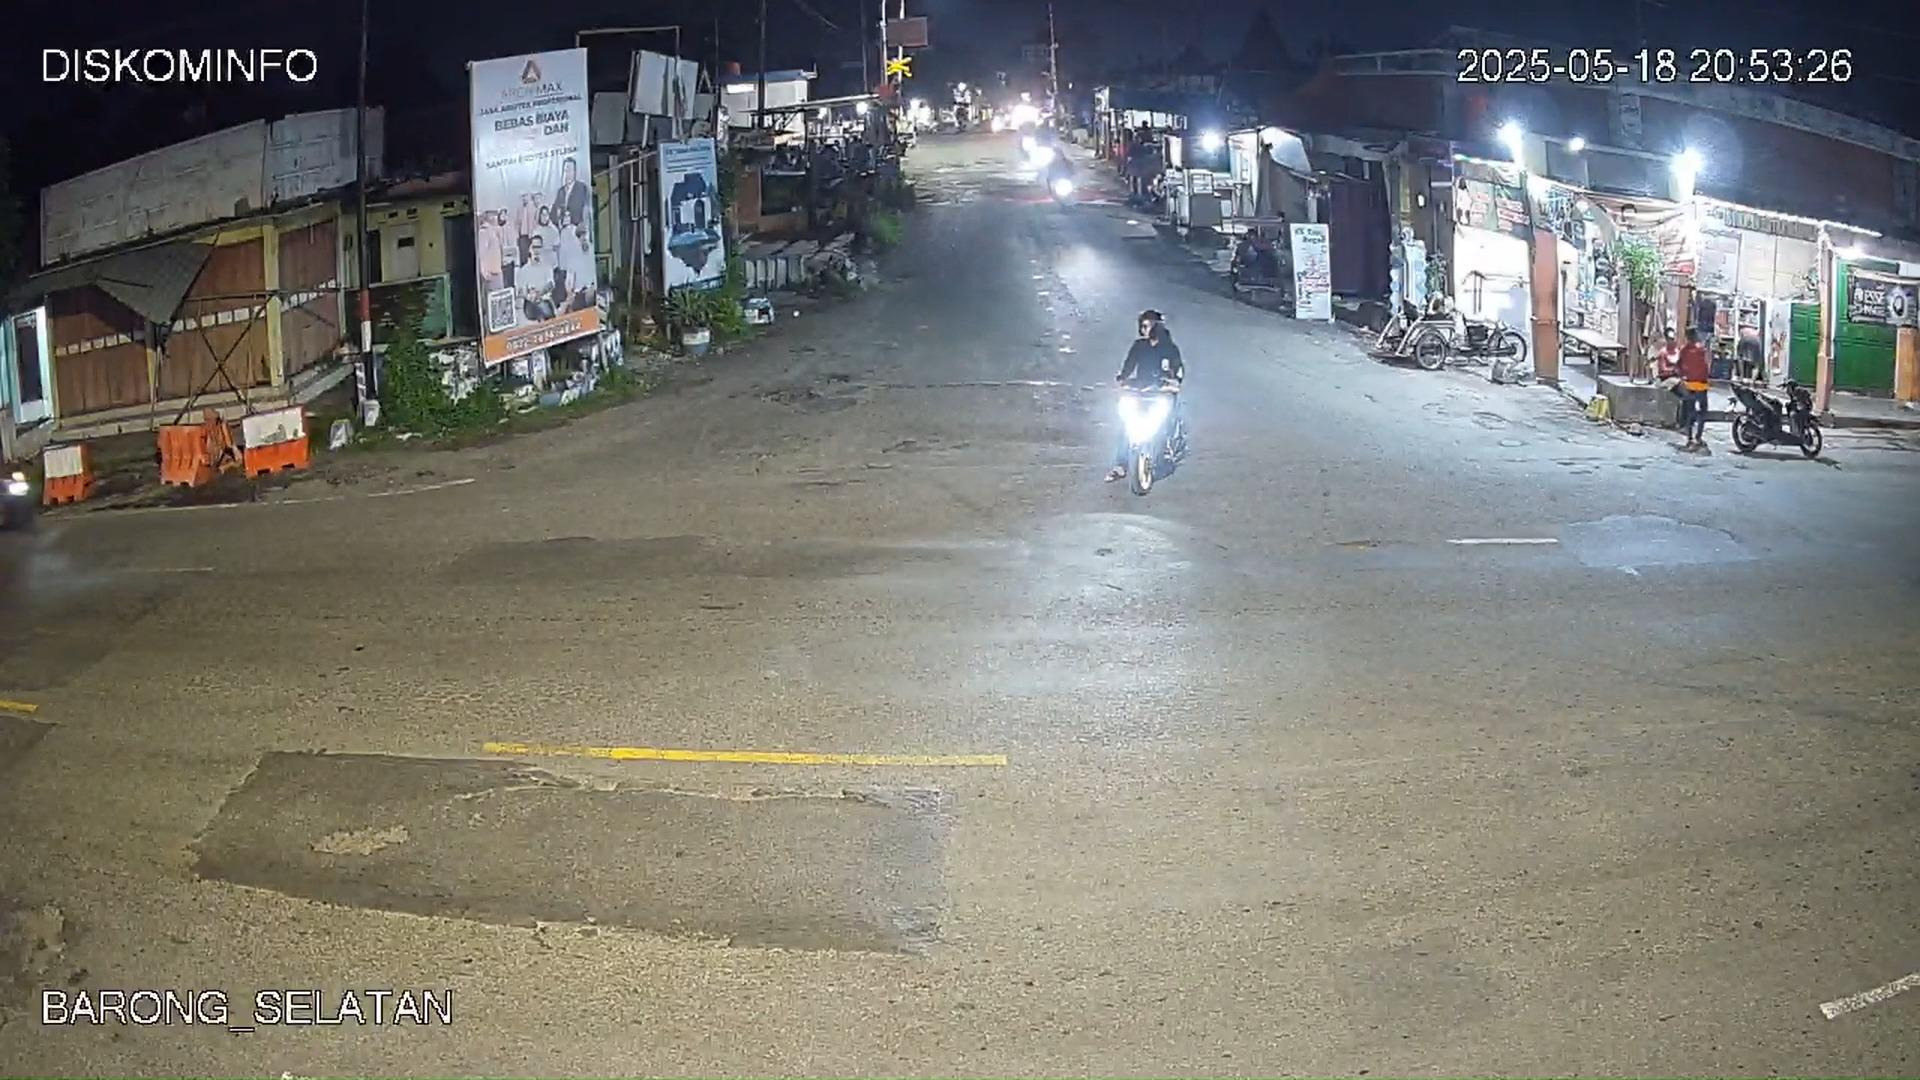Motor: (1105, 306, 1184, 484), (1724, 373, 1825, 458), (0, 467, 38, 531)
